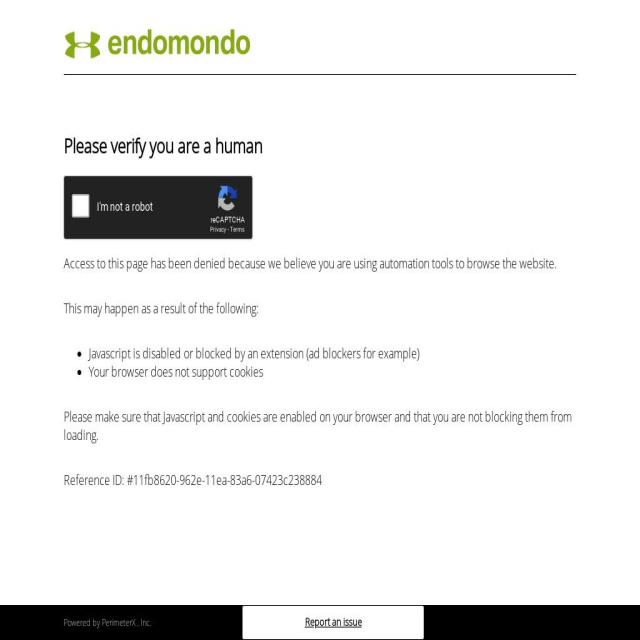heading: (64, 132, 576, 160)
iframe: (64, 176, 254, 242)
image: (64, 27, 252, 61)
link: (102, 616, 136, 629)
text: (64, 407, 576, 445), (64, 254, 576, 274), (89, 344, 576, 364), (89, 362, 576, 382), (64, 471, 576, 490), (64, 300, 576, 318), (242, 605, 424, 640), (64, 616, 102, 629), (136, 616, 152, 629)
